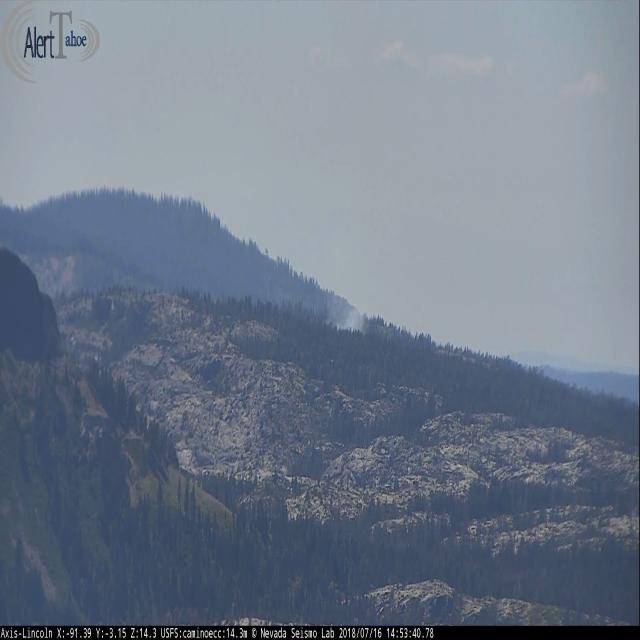smoke: (326, 295, 366, 337)
